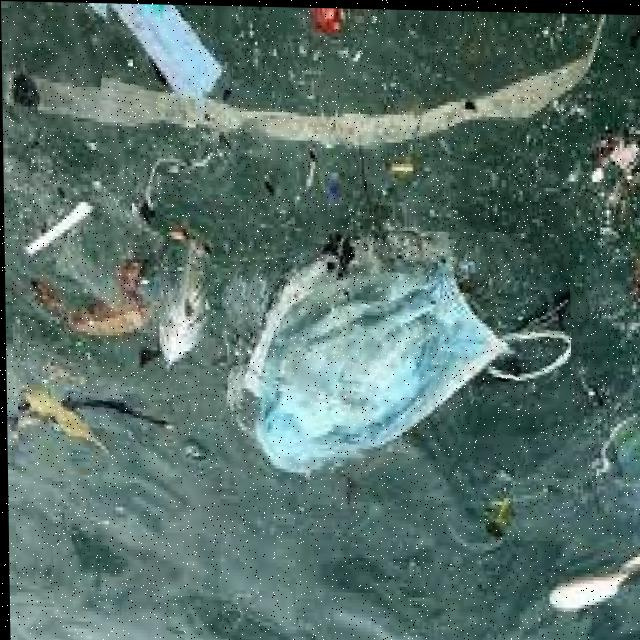litter: (224, 225, 570, 466), (15, 383, 186, 468), (98, 2, 231, 111)
